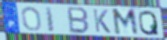B: (67, 6, 91, 35)
I: (44, 6, 56, 33)
K: (92, 8, 112, 35)
M: (111, 8, 140, 37)
O: (20, 6, 43, 32)
Q: (138, 10, 161, 37)
